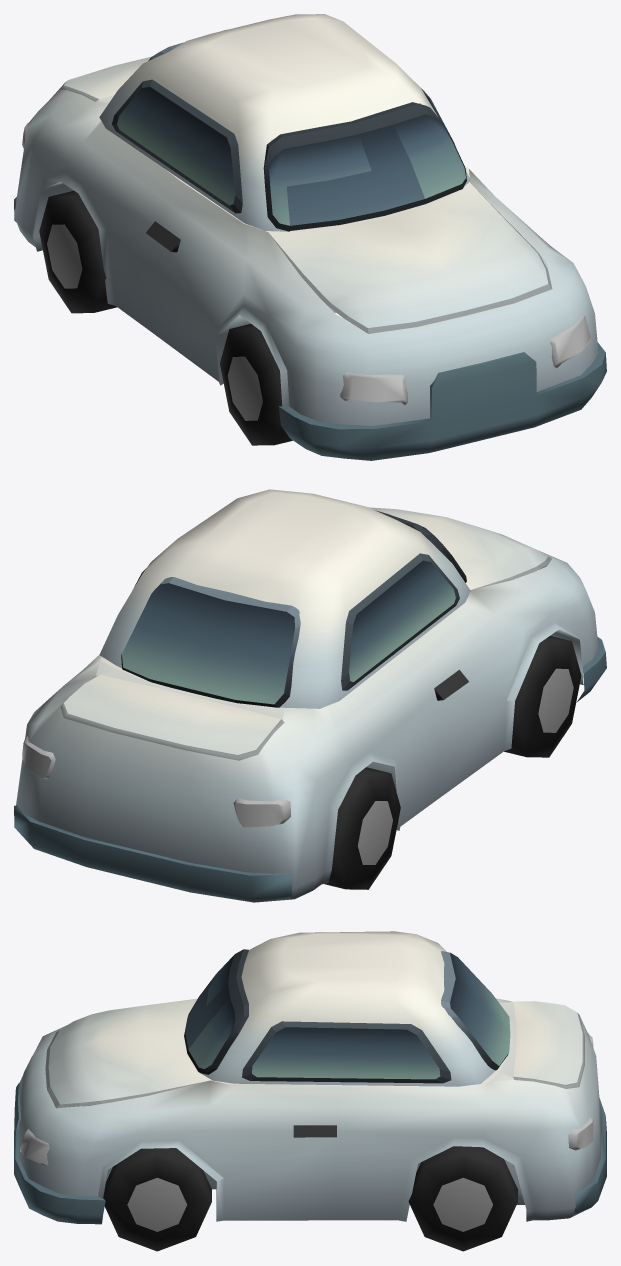
File: 0_Car_FourSeaterTest.fbx
3 views of the same model, one above another, from view 1: azimuth 30°, elevation 25°; view 2: azimuth 150°, elevation 25°; view 3: azimuth 270°, elevation 25° (orthographic). The views are drawn at different scales.
Visible parts, largest first — view 1: Car_Body_Top_color, Car_roof__Removable__color, kinh_a_1, kinh_a_2, BANH XE.003, BANH XE.002; view 2: Car_Body_Top_color, Car_roof__Removable__color, kinh_a_1, kinh_a_2, BANH XE.003, BANH XE.002; view 3: Car_Body_Top_color, Car_roof__Removable__color, kinh_a_2, kinh_a_1, BANH XE.005, BANH XE.004.
Boxes of the visible parts, x1=… form: Car_Body_Top_color: x1=14, y1=56, x2=606, y2=460; Car_roof__Removable__color: x1=99, y1=14, x2=470, y2=231; kinh_a_1: x1=148, y1=29, x2=466, y2=231; kinh_a_2: x1=112, y1=79, x2=455, y2=213; BANH XE.003: x1=39, y1=190, x2=116, y2=313; BANH XE.002: x1=220, y1=324, x2=292, y2=445; Car_Body_Top_color: x1=14, y1=507, x2=606, y2=902; Car_roof__Removable__color: x1=99, y1=489, x2=470, y2=708; kinh_a_1: x1=121, y1=510, x2=466, y2=707; kinh_a_2: x1=133, y1=553, x2=459, y2=690; BANH XE.003: x1=324, y1=767, x2=400, y2=889; BANH XE.002: x1=504, y1=636, x2=581, y2=757; Car_Body_Top_color: x1=14, y1=998, x2=606, y2=1224; Car_roof__Removable__color: x1=201, y1=931, x2=495, y2=1086; kinh_a_2: x1=242, y1=1021, x2=451, y2=1083; kinh_a_1: x1=184, y1=949, x2=510, y2=1074; BANH XE.005: x1=408, y1=1146, x2=517, y2=1251; BANH XE.004: x1=103, y1=1148, x2=211, y2=1251.
Size of the model in its own units: 135 by 114 by 263.
